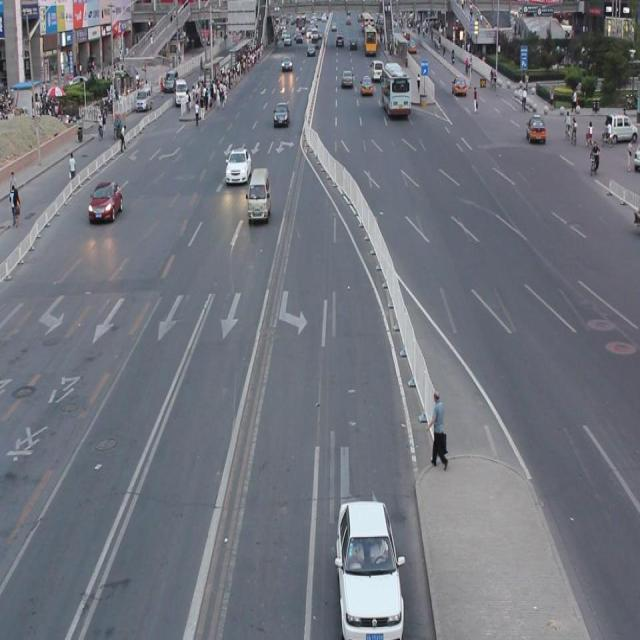car: (336, 496, 403, 640), (89, 180, 122, 223)
truck: (247, 166, 270, 220)
